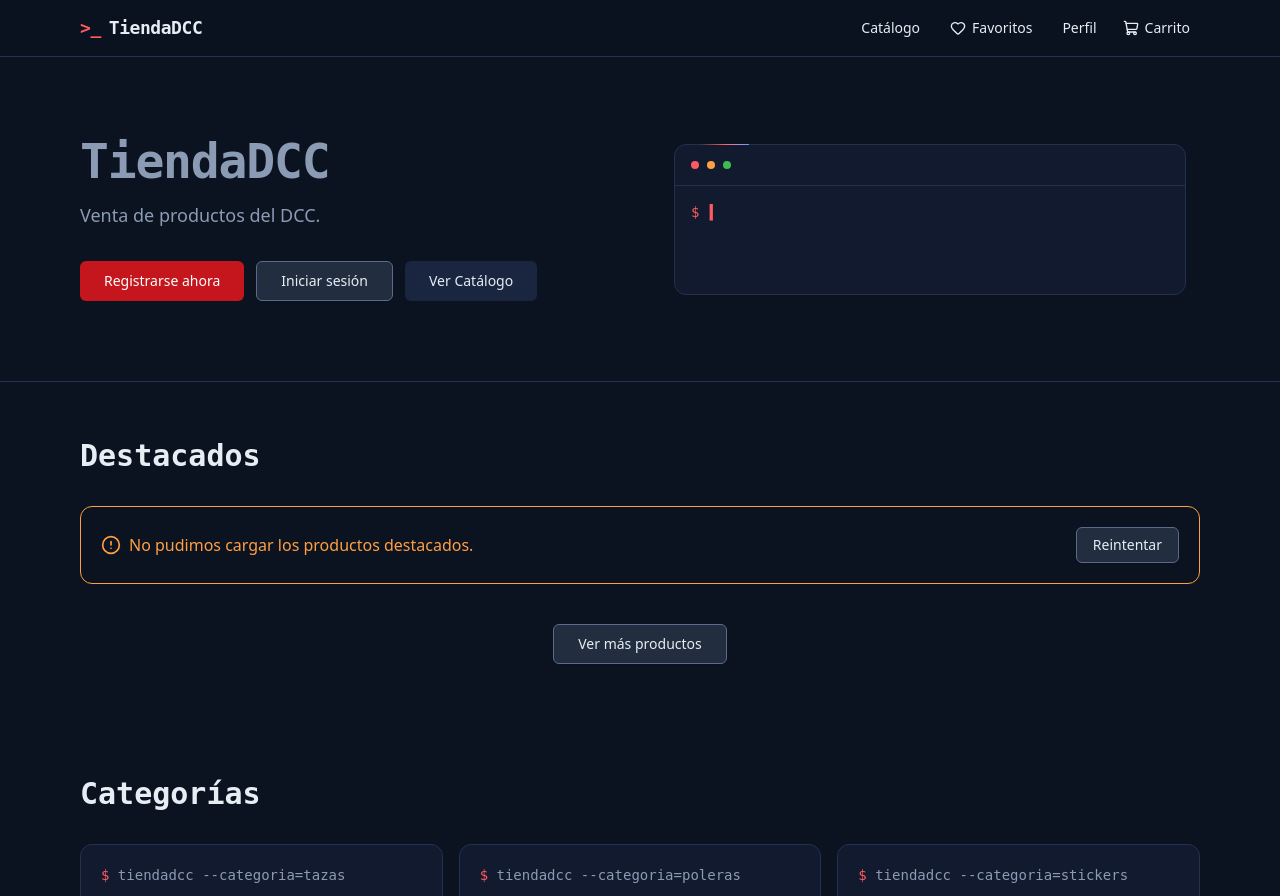
Test: App › navigates to login and back via the clickable logo
Click the link "Iniciar sesión" at (325, 281), box [256, 261, 393, 301]
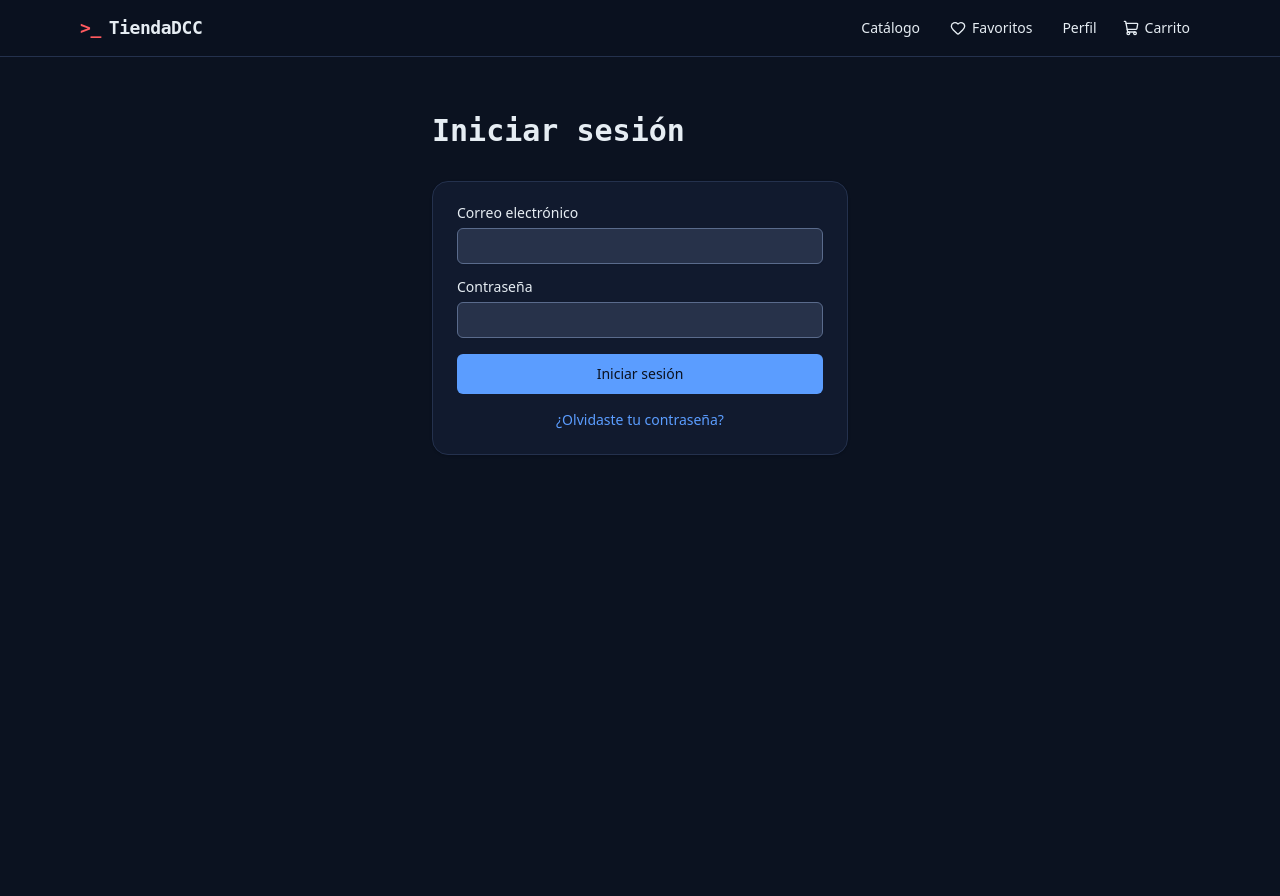
Expected: the heading "Iniciar sesión" is shown, [432, 113, 685, 148]
Click the link ">_TiendaDCC" at (141, 28), box [80, 14, 202, 42]
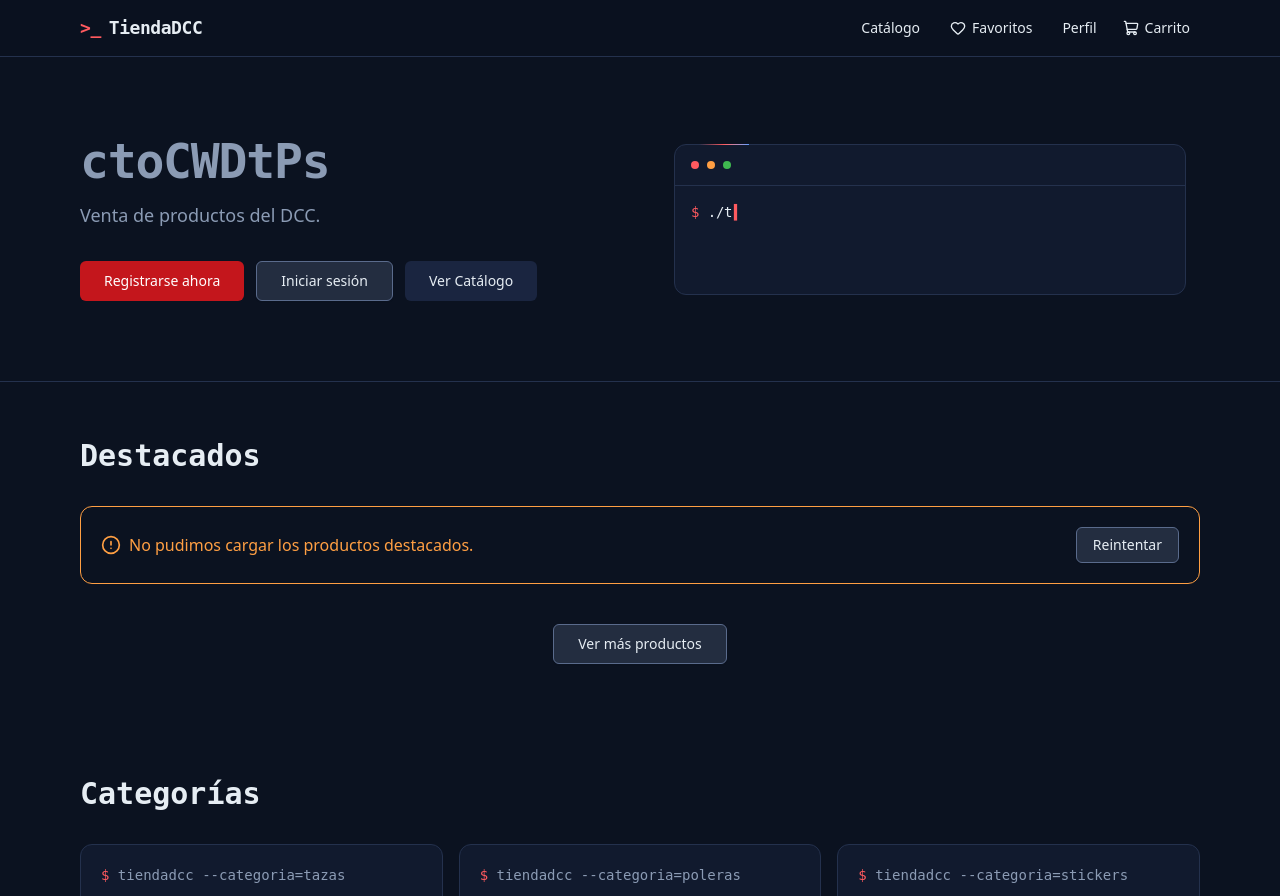
Expected: the heading named "TiendaDCC" is shown, [79, 132, 329, 189]
